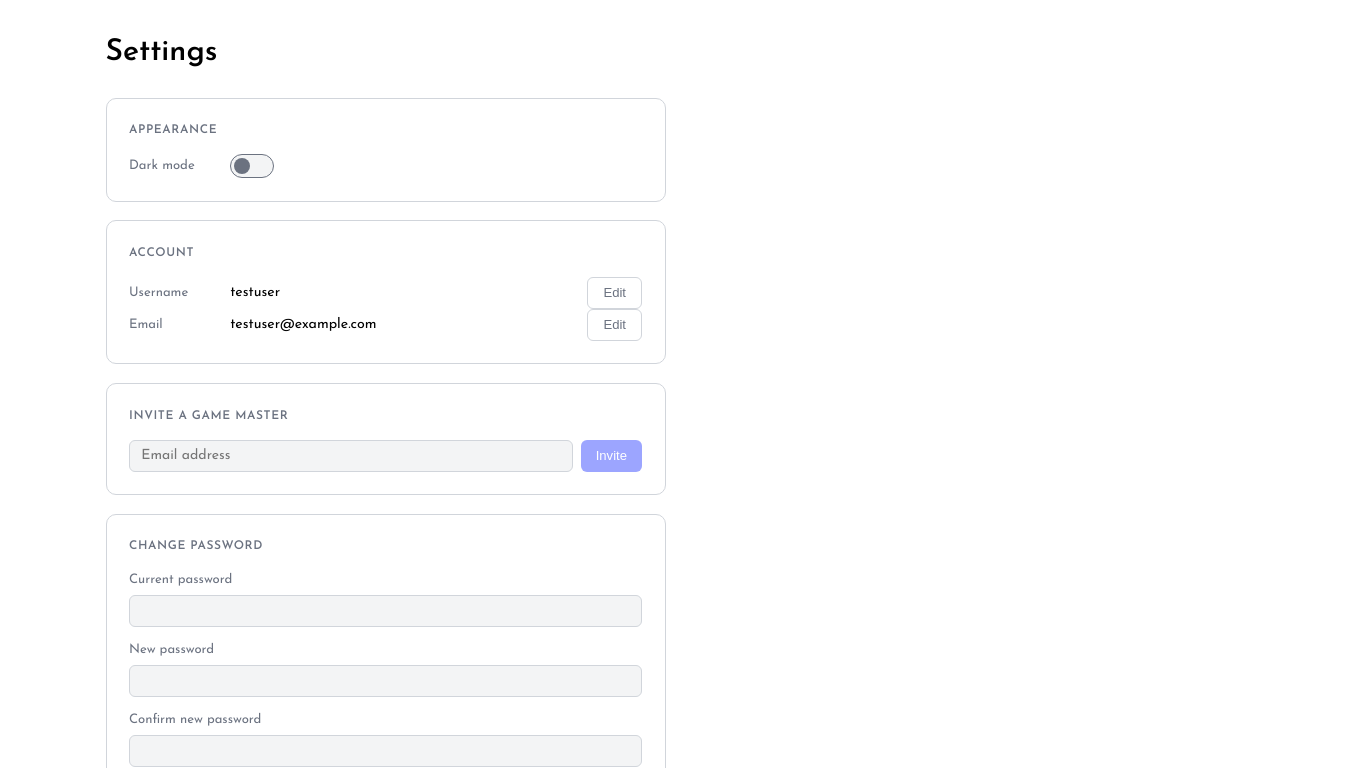
Test: username: wrong password shows server error and keeps modal open
The width and height of the screenshot is (1366, 768).
Expected: the text "testuser" is shown, [230,285,280,300]
Click the button "Edit" in the row of "Username" at (615, 293), box [587,277,642,309]
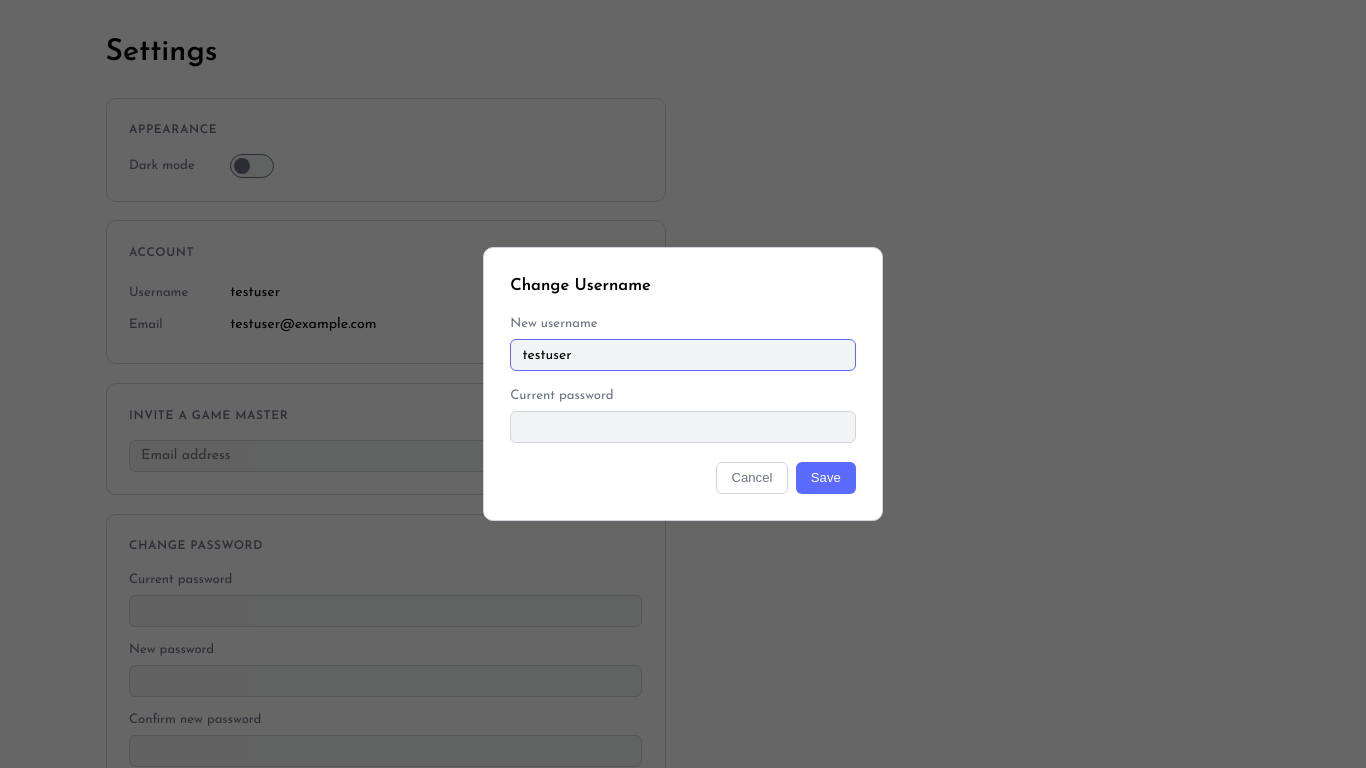
Type "x" into the field labelled "New username" at (683, 355), box [510,339,856,371]
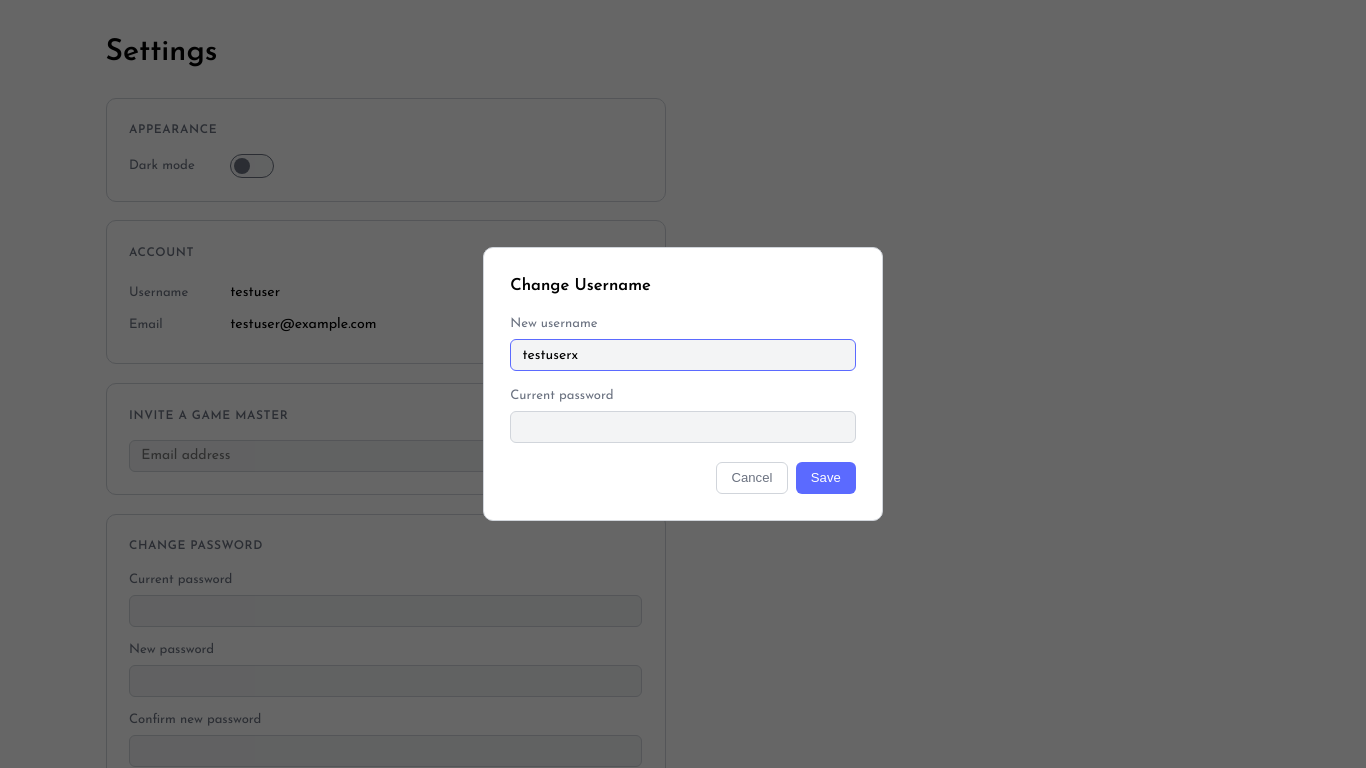
Type "wrong" into the password field labelled "Current password" at (683, 427), box [510,411,856,443]
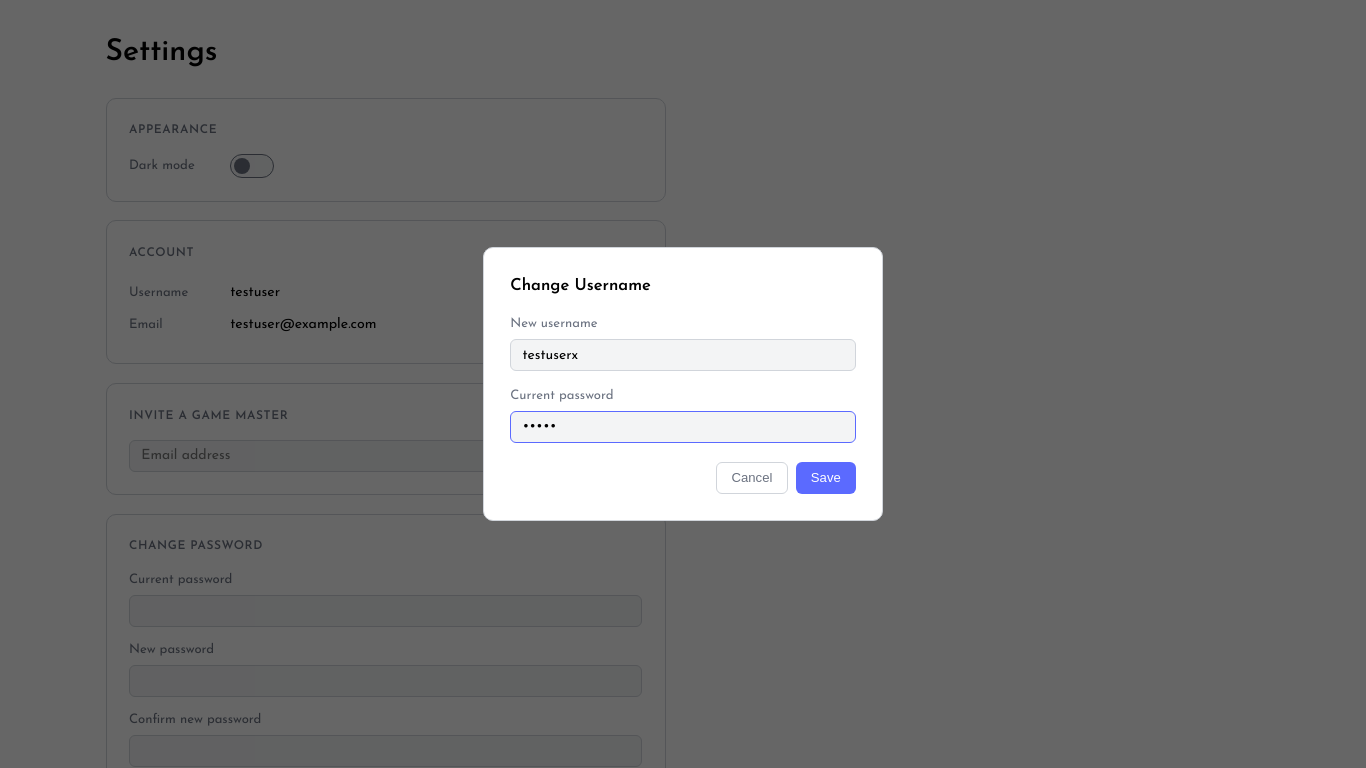
Click the button "Save" at (826, 478), box [796,462,856,494]
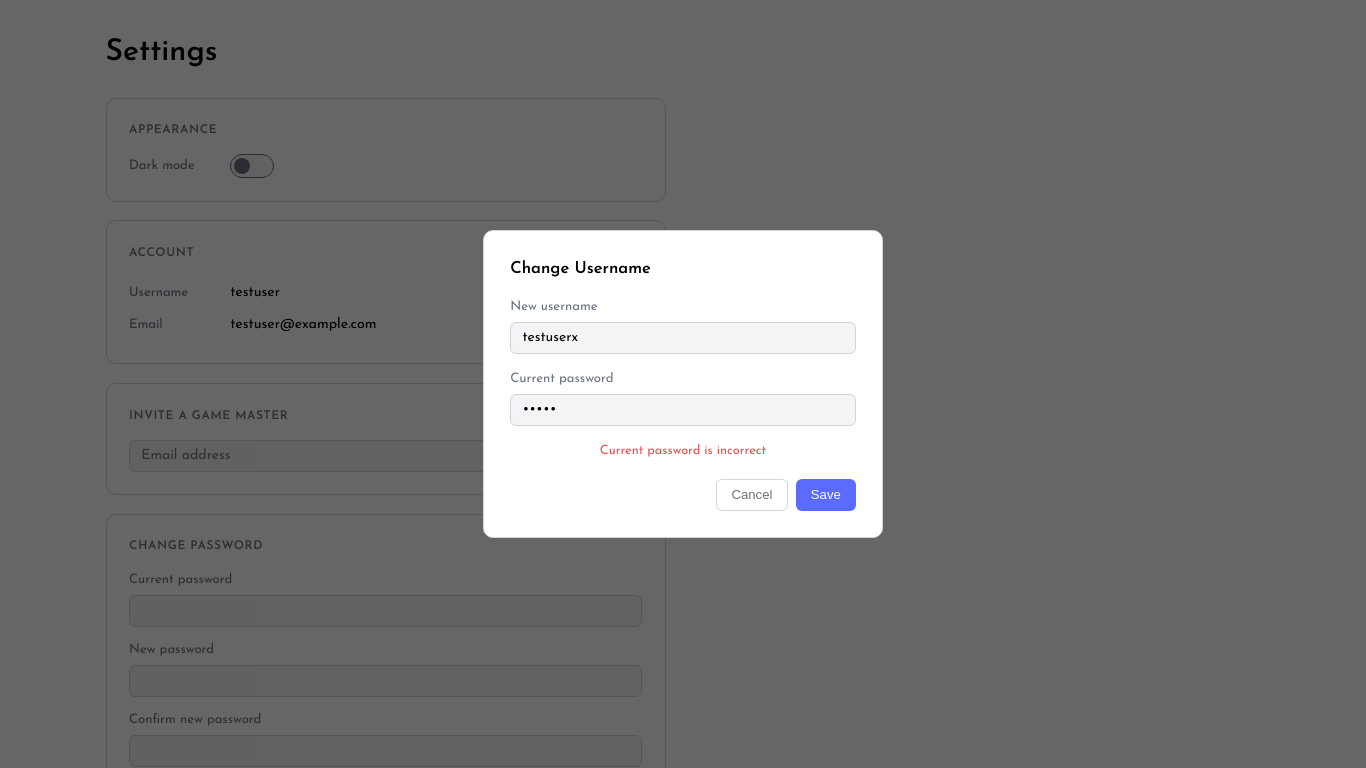
Result: the heading "Change Username" is shown at [510,261,651,277]
Result: the text "Current password is incorrect" is shown at [600,444,766,457]
